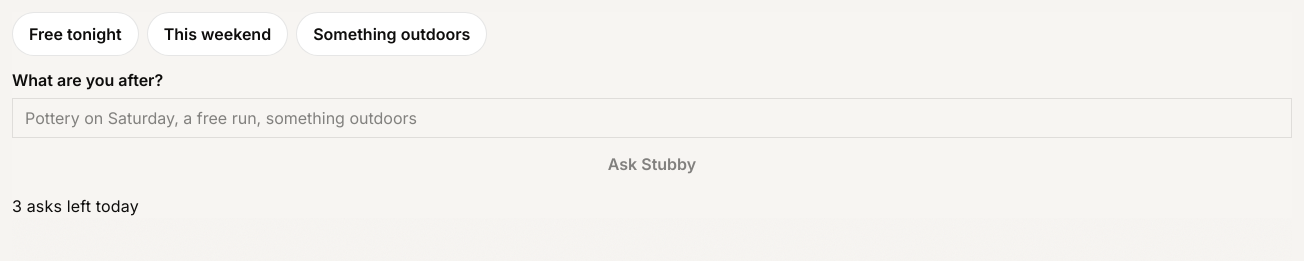
it: AskStubby › a quick idea fills in the field and asks (one ask, like typing)
Click the button "This weekend" at x=217, y=34, box [147,12,288,56]
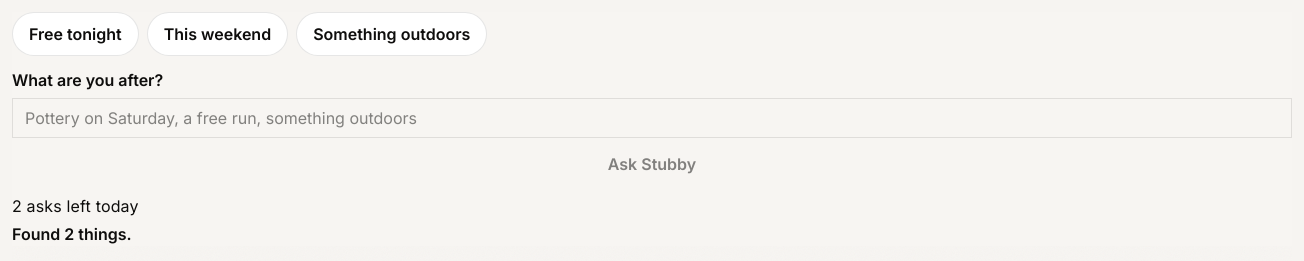
expect the text "Found 2 things." is shown: met, box [12,224,132,244]
